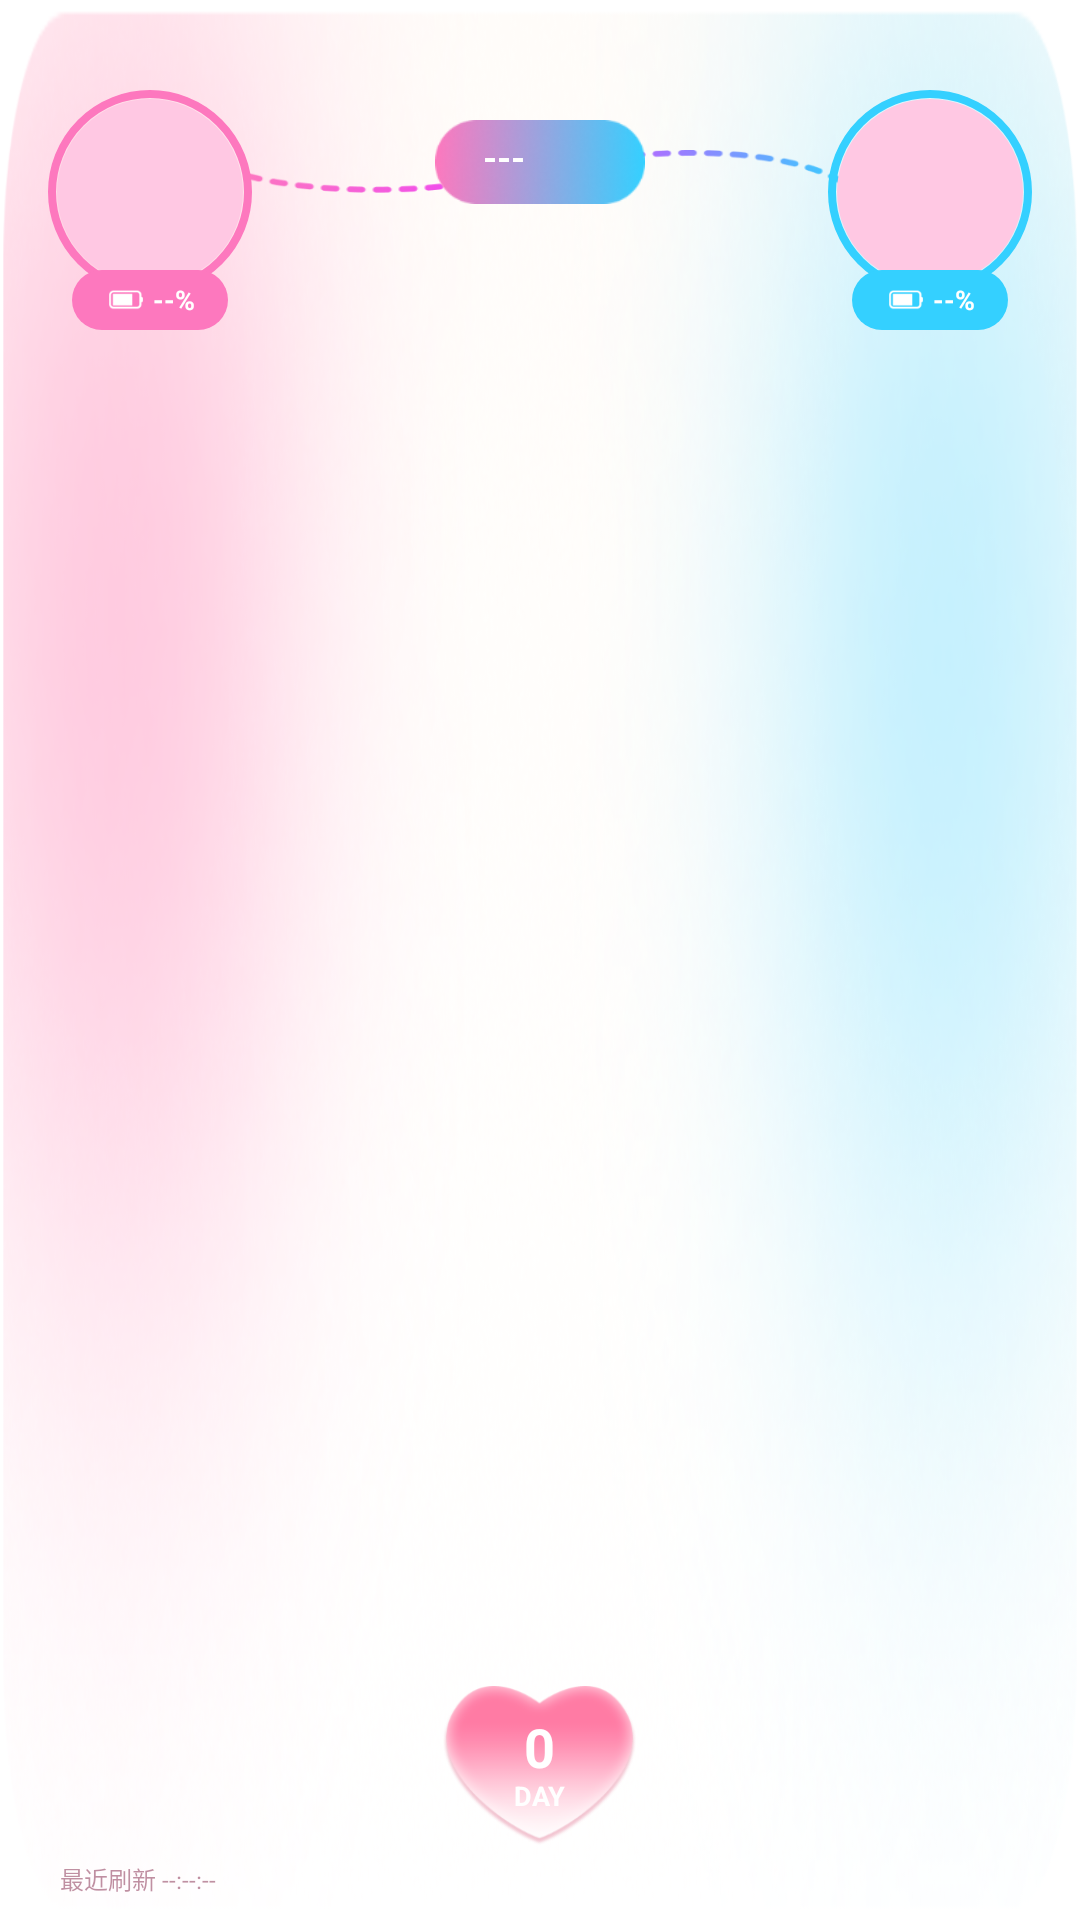

Named icons in this screenshot (1080×1920) and their bounding boxes, (x1,y1,x2,y2):
电池: (109,290,143,309), (889,290,923,309)
